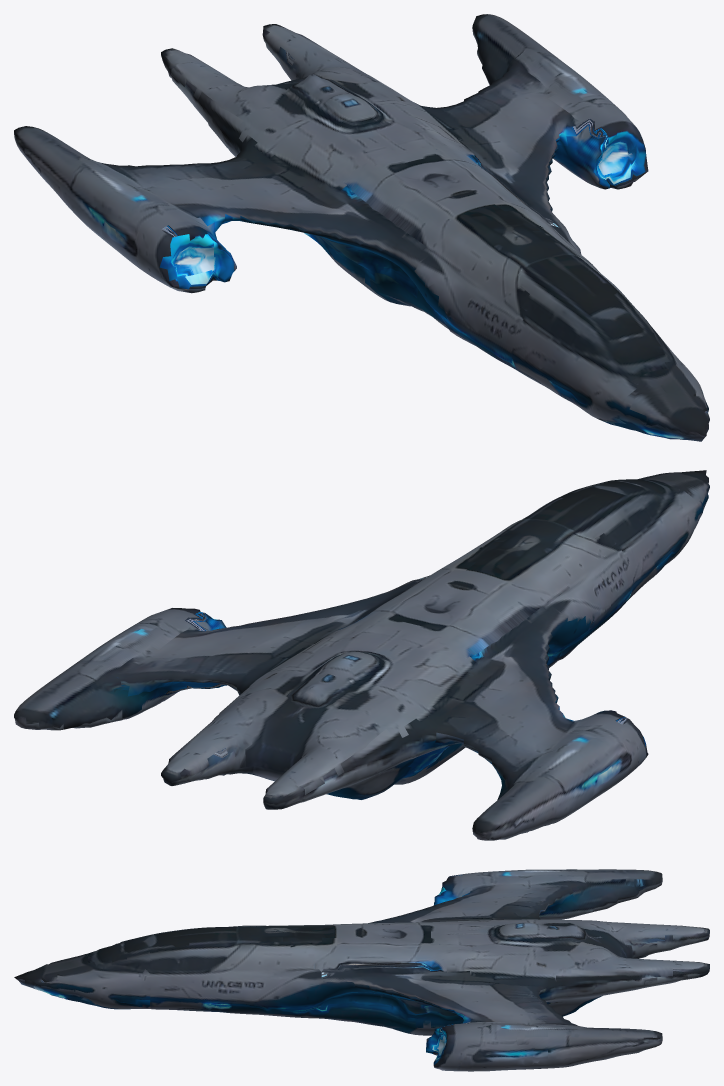
The model's file is alliance_courier_lod1.glb.
The picture shows the model from 3 angles, top to bottom: view 1: azimuth 30°, elevation 25°; view 2: azimuth 150°, elevation 25°; view 3: azimuth 270°, elevation 25°; orthographic projection. The views are drawn at different scales.
Parts seen in each view (by area): view 1: model; view 2: model; view 3: model.
Part boxes in pixels (x1,y1,x2,y2): model: (14,14,709,441); model: (14,470,709,840); model: (14,869,709,1071).
Size of the model in its own units: 1.1 by 0.3021 by 1.87.
Materials: 1 (1 with a texture image).
